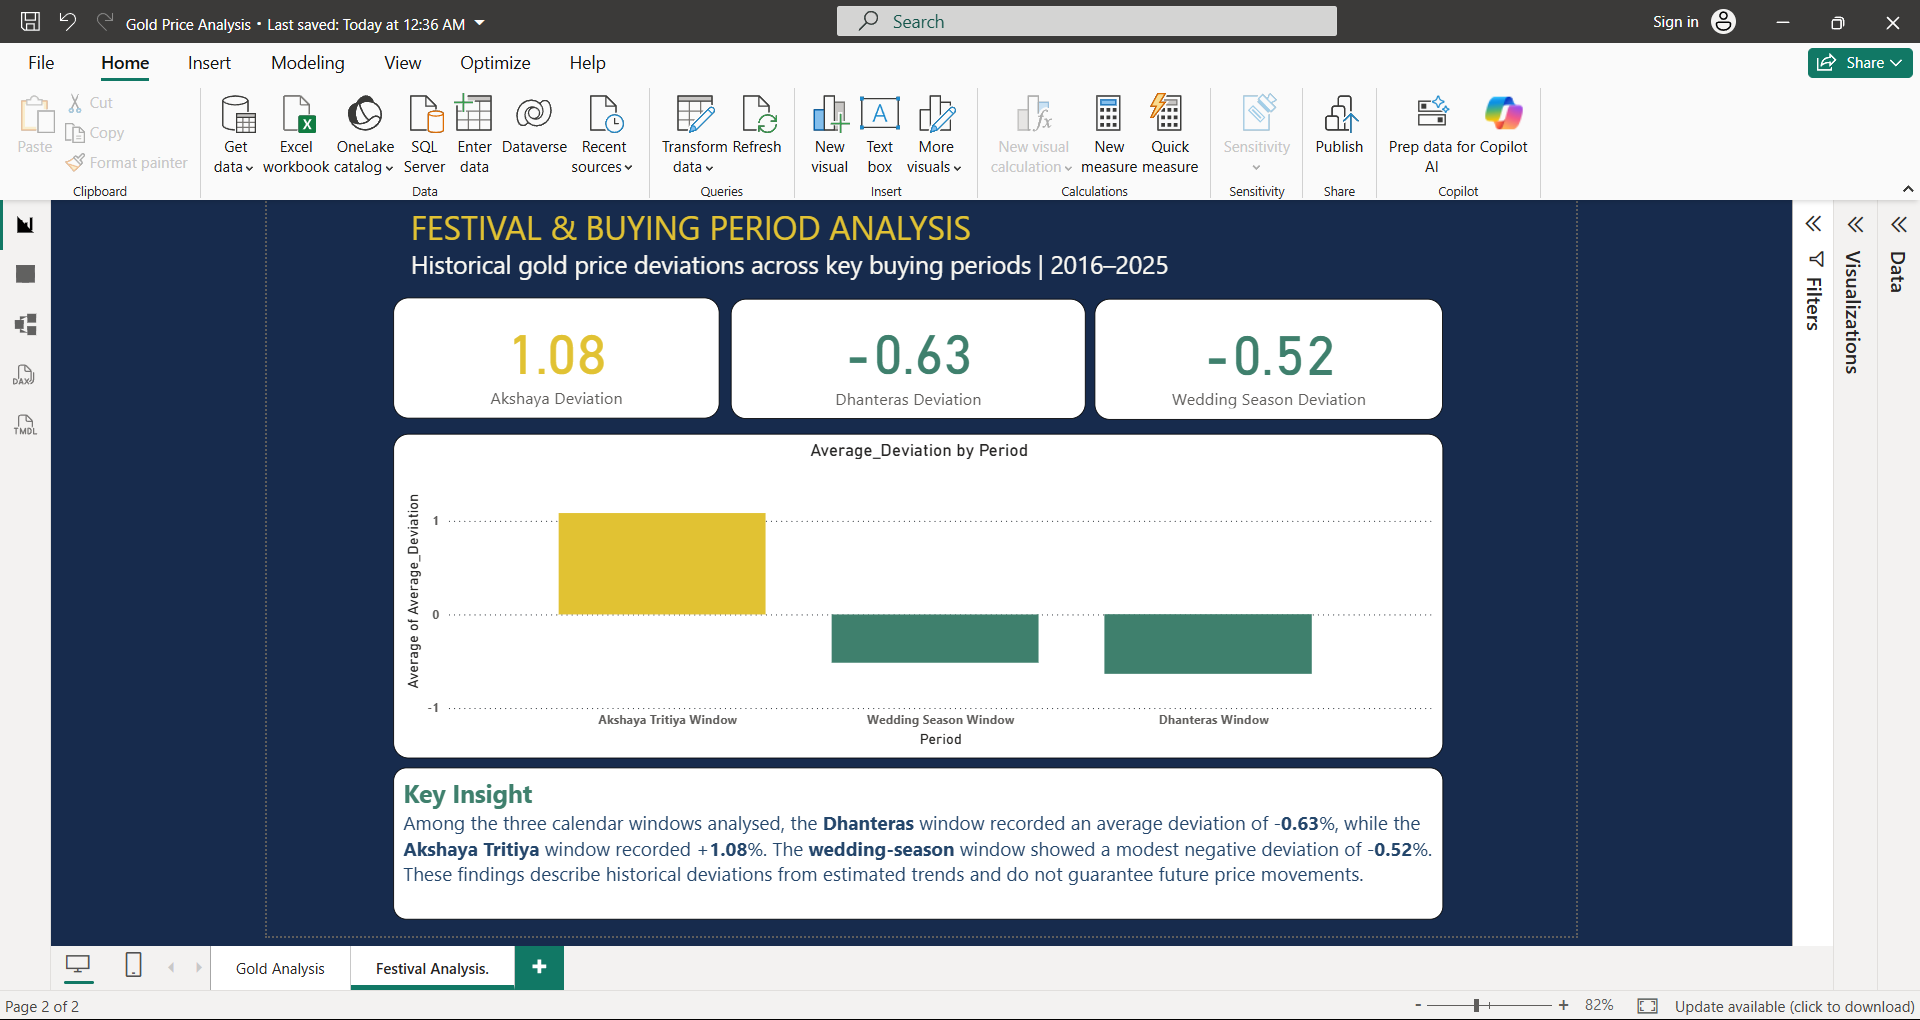

What the dashboard file says about the page in this screenshot:
{"tool":"powerbi","page":{"name":"Festival Analysis.","canvas":[1280,720],"ordinal":1},"visuals":[{"type":"clusteredColumnChart","title":"Average_Deviation by Period","fields":{"Category":["Gold_Festival_Window_Comparison.Period"],"Y":["Avg(Gold_Festival_Window_Comparison.Average_Deviation)"]},"box":[123.5,228.7,1027.2,317.9],"z":0},{"type":"textbox","box":[135.7,0,1015,127.2],"z":1000},{"type":"card","fields":{"Values":["Gold_Festival_Window_Comparison.Akshaya Deviation"]},"box":[123.5,95.4,319.2,118.6],"z":2000},{"type":"card","fields":{"Values":["Gold_Festival_Window_Comparison.Dhanteras Deviation"]},"box":[453.7,96.6,347.3,117.4],"z":3000},{"type":"card","fields":{"Values":["Gold_Festival_Window_Comparison.Wedding Season Deviation"]},"box":[809.5,96.6,341.2,118.6],"z":4000},{"type":"textbox","box":[123.5,555.2,1027.2,149.2],"z":5000}]}

Visuals, with their boxes on the page's 1280x720 design canvas (x1, y1, x2, y2). These are canvas units, not pixel positions in the 1920x1020 screenshot, which may show the page scaled, cropped or inside an application window:
"Average_Deviation by Period" clusteredColumnChart: (x1=124, y1=229, x2=1151, y2=547)
textbox: (x1=136, y1=0, x2=1151, y2=127)
card - Gold_Festival_Window_Comparison.Akshaya Deviation: (x1=124, y1=95, x2=443, y2=214)
card - Gold_Festival_Window_Comparison.Dhanteras Deviation: (x1=454, y1=97, x2=801, y2=214)
card - Gold_Festival_Window_Comparison.Wedding Season Deviation: (x1=810, y1=97, x2=1151, y2=215)
textbox: (x1=124, y1=555, x2=1151, y2=704)
